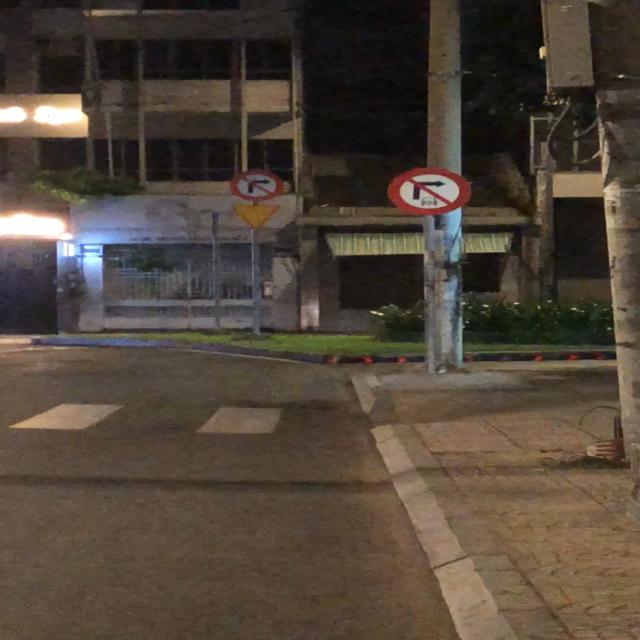Bien bao cam re phai: (228, 169, 287, 202)
Bien bao cam xe o to re phai: (383, 165, 473, 218)
Bien bao giao nhau voi duong uu tien: (227, 202, 284, 230)
